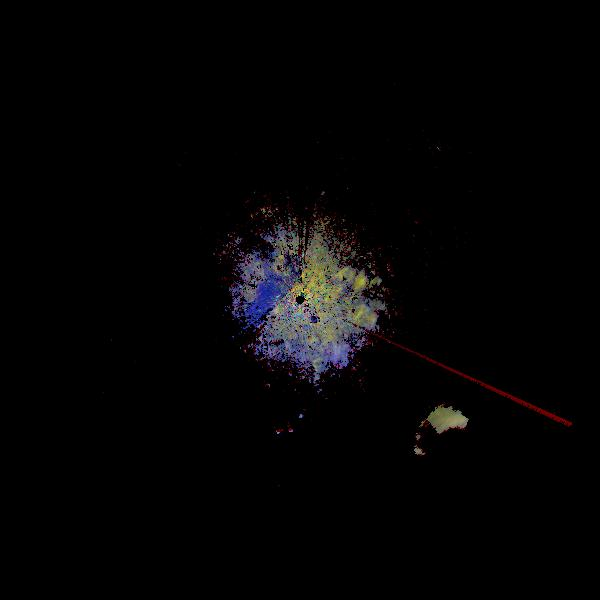roost: (234, 328, 363, 457), (404, 400, 494, 490)
